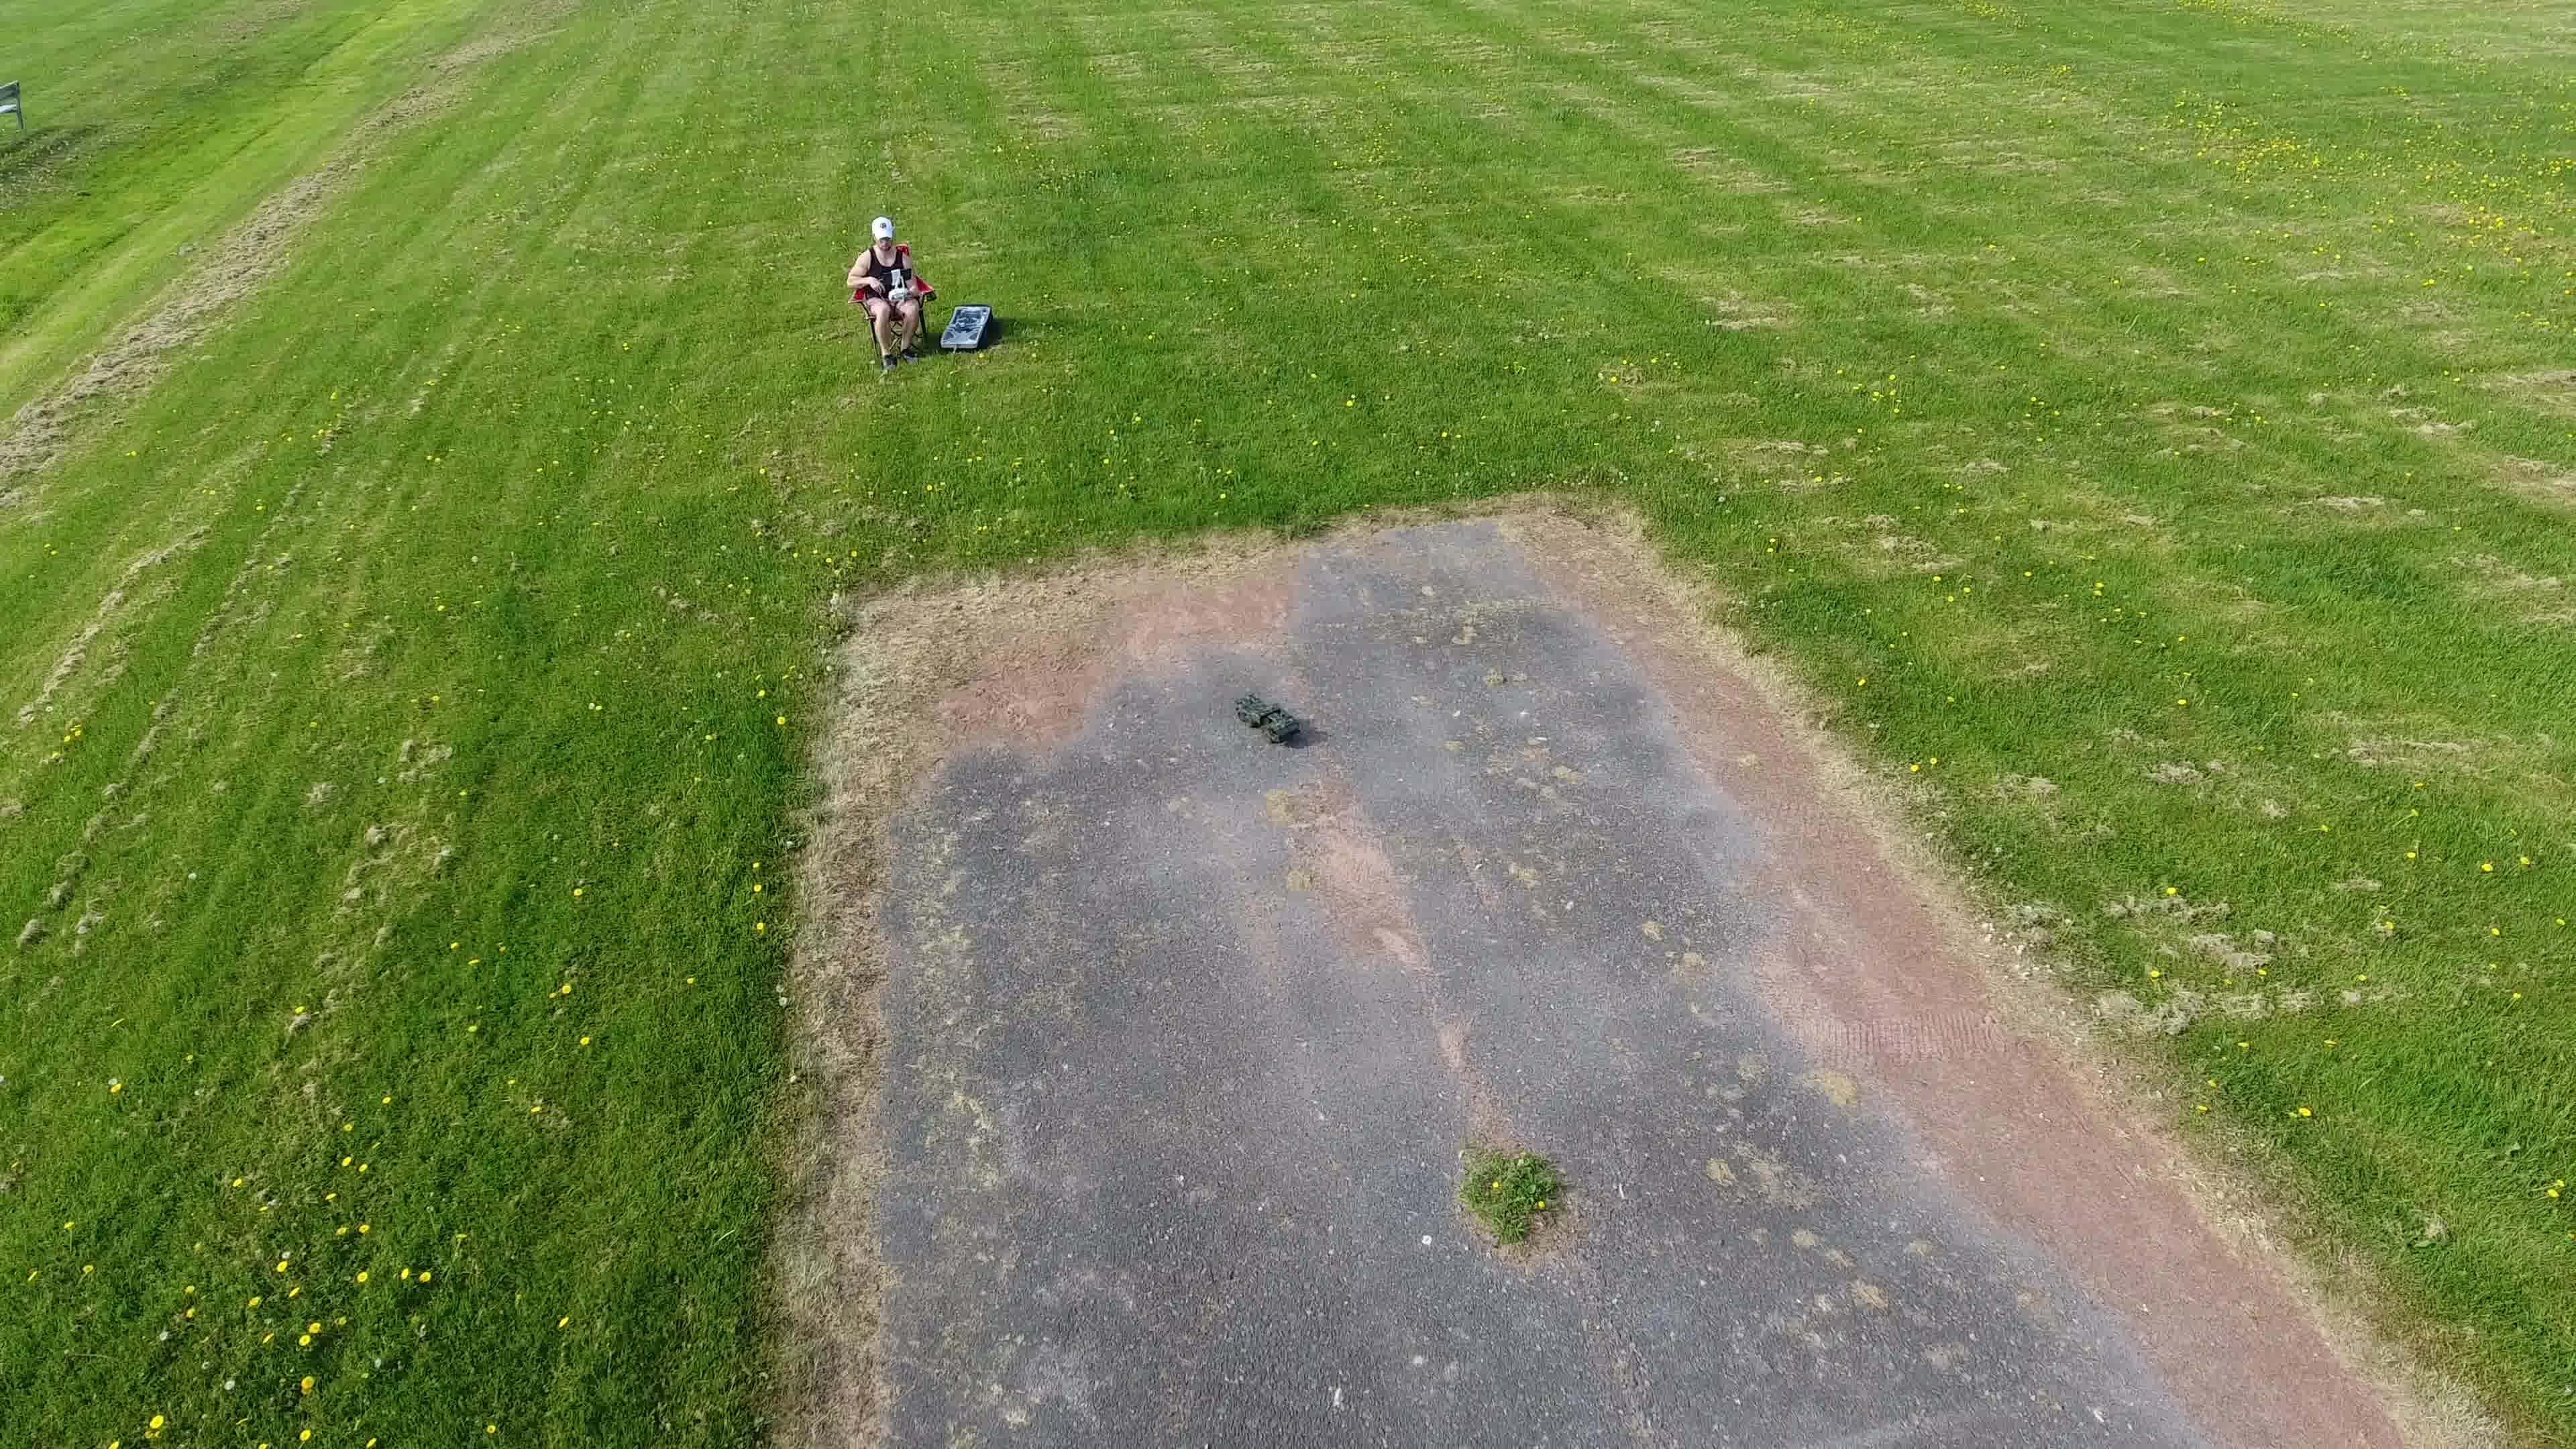transporter9_camo: (1233, 692, 1302, 747)
